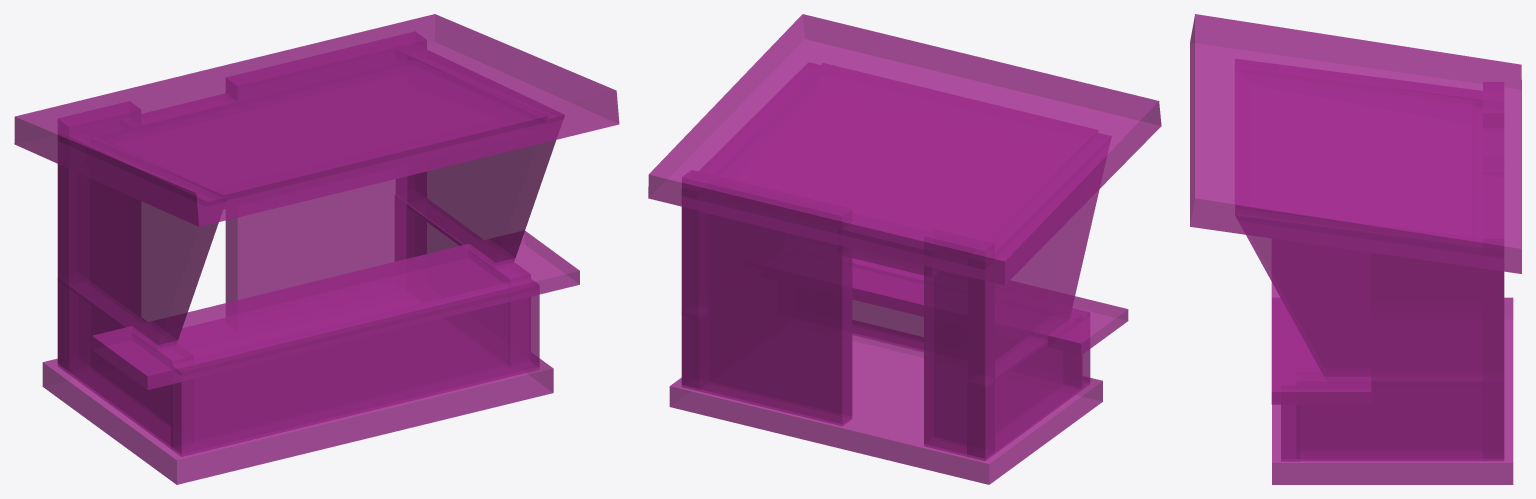
The model's file is SM_Bld_Beach_Shop_01_Collision.fbx.
3 renders of one model, left to right at view 1: azimuth 30°, elevation 25°; view 2: azimuth 150°, elevation 25°; view 3: azimuth 270°, elevation 25°, orthographic. The views are drawn at different scales.
Parts seen in each view (by area): view 1: SM_Bld_Beach_Shop_01_Collision; view 2: SM_Bld_Beach_Shop_01_Collision; view 3: SM_Bld_Beach_Shop_01_Collision.
Part boxes in pixels (x1,y1,x2,y2): SM_Bld_Beach_Shop_01_Collision: (14, 14, 619, 484); SM_Bld_Beach_Shop_01_Collision: (648, 14, 1161, 484); SM_Bld_Beach_Shop_01_Collision: (1190, 14, 1521, 484).
Bounding box in the file's own units: 456 × 331 × 337.
